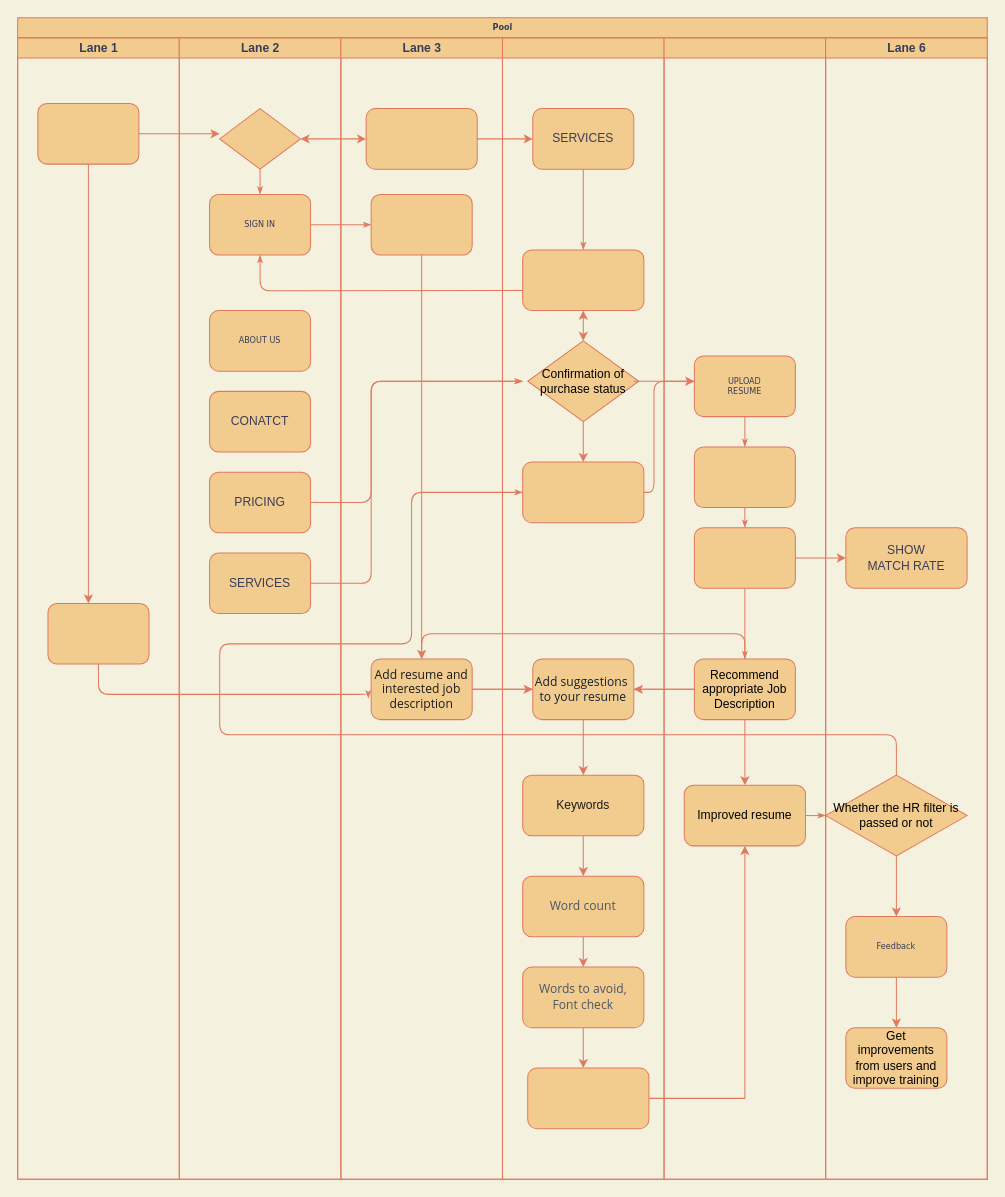
Some shapes in this 1005 by 1197 pixel diagram are drawn without their labels. The box of each missing label's shape, as (x1, y1, x2, y2) in pixels:
BULLET POINT RESULT: (693, 527, 795, 588)
BUY PLAN: (522, 461, 644, 523)
HOME PAGE: (37, 103, 139, 164)
Introduction: (47, 602, 149, 664)
Introduction to the plan: (522, 249, 644, 311)
Lane 4: (501, 37, 664, 1179)
Lane 5: (663, 37, 826, 1179)
Layout: (527, 1067, 649, 1129)
LOGIN PAGE: (219, 108, 300, 169)
My Page: (370, 193, 472, 255)
SELECT JOB: (693, 446, 795, 508)
SIGN UP: (365, 108, 477, 169)
